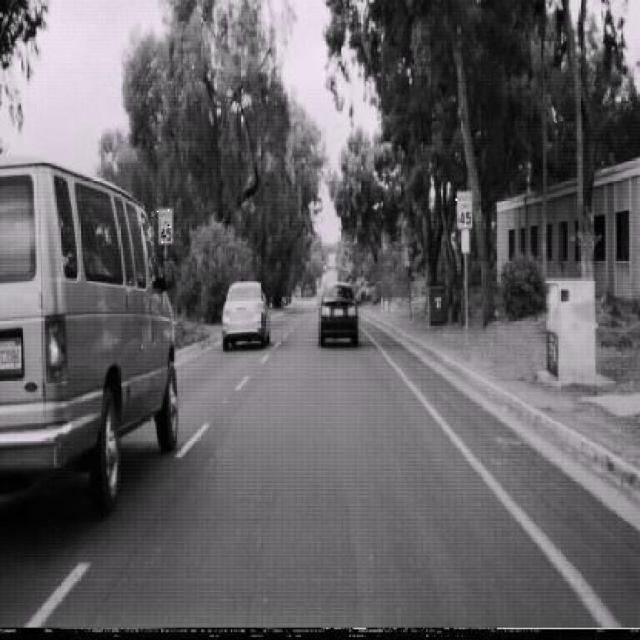speedLimit45: (456, 189, 472, 230), (158, 206, 174, 245)
